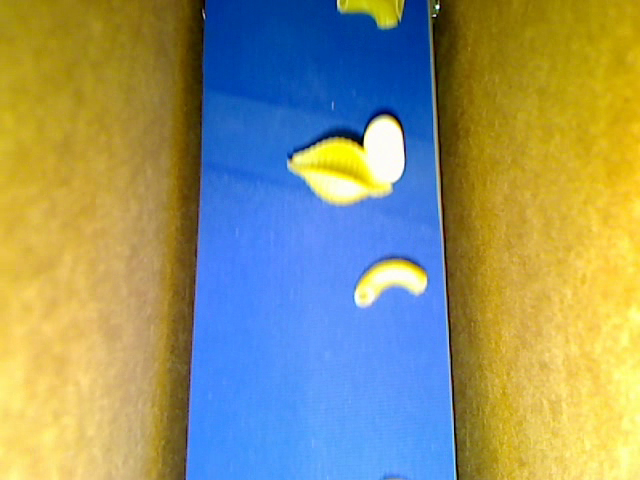elbow: (354, 257, 428, 308), (336, 1, 398, 30)
penne: (387, 1, 404, 21)
shell: (286, 136, 391, 204)
